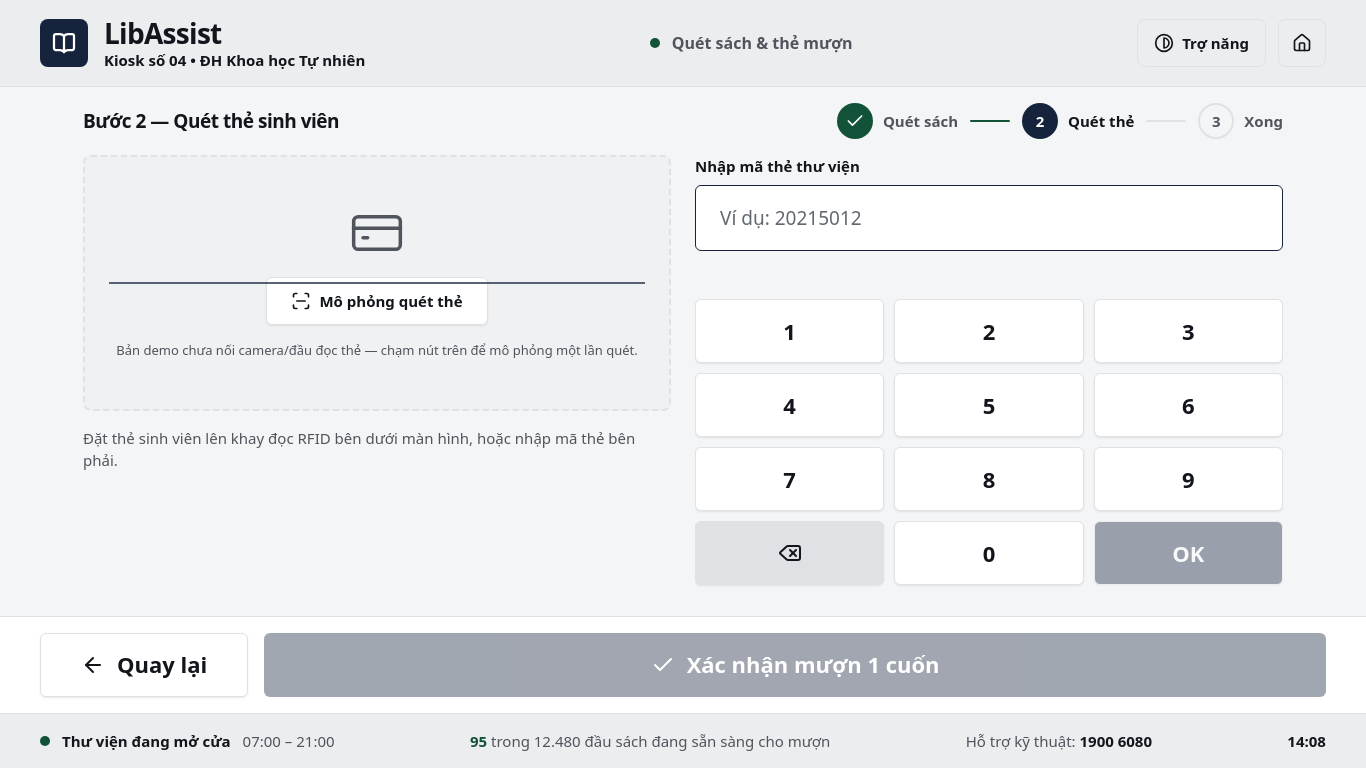
Step 2 — the card check › refuses a card with overdue books and names them
Type "20218888" into the field labelled "Nhập mã thẻ thư viện" at [989, 218], box [720, 186, 1258, 250]
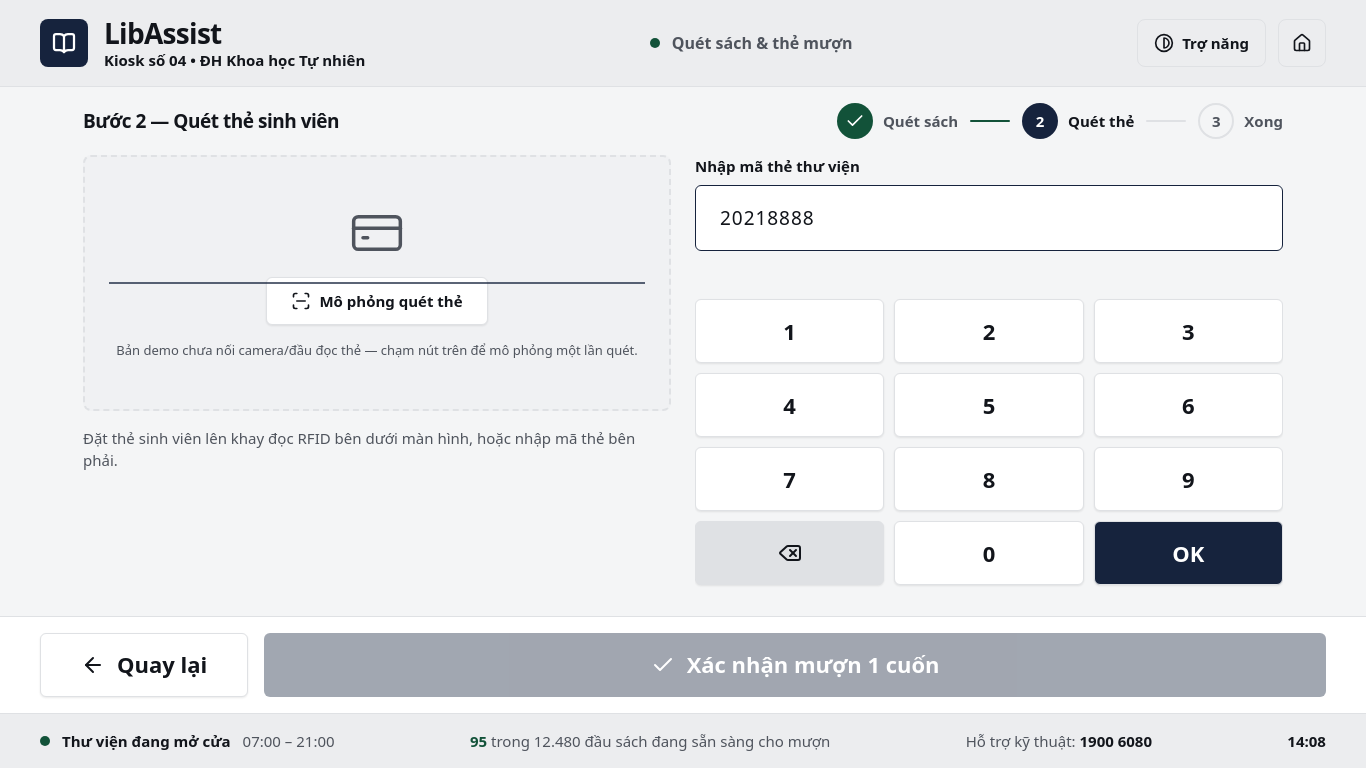
Click the button "OK" at [1188, 553], box [1094, 521, 1283, 585]
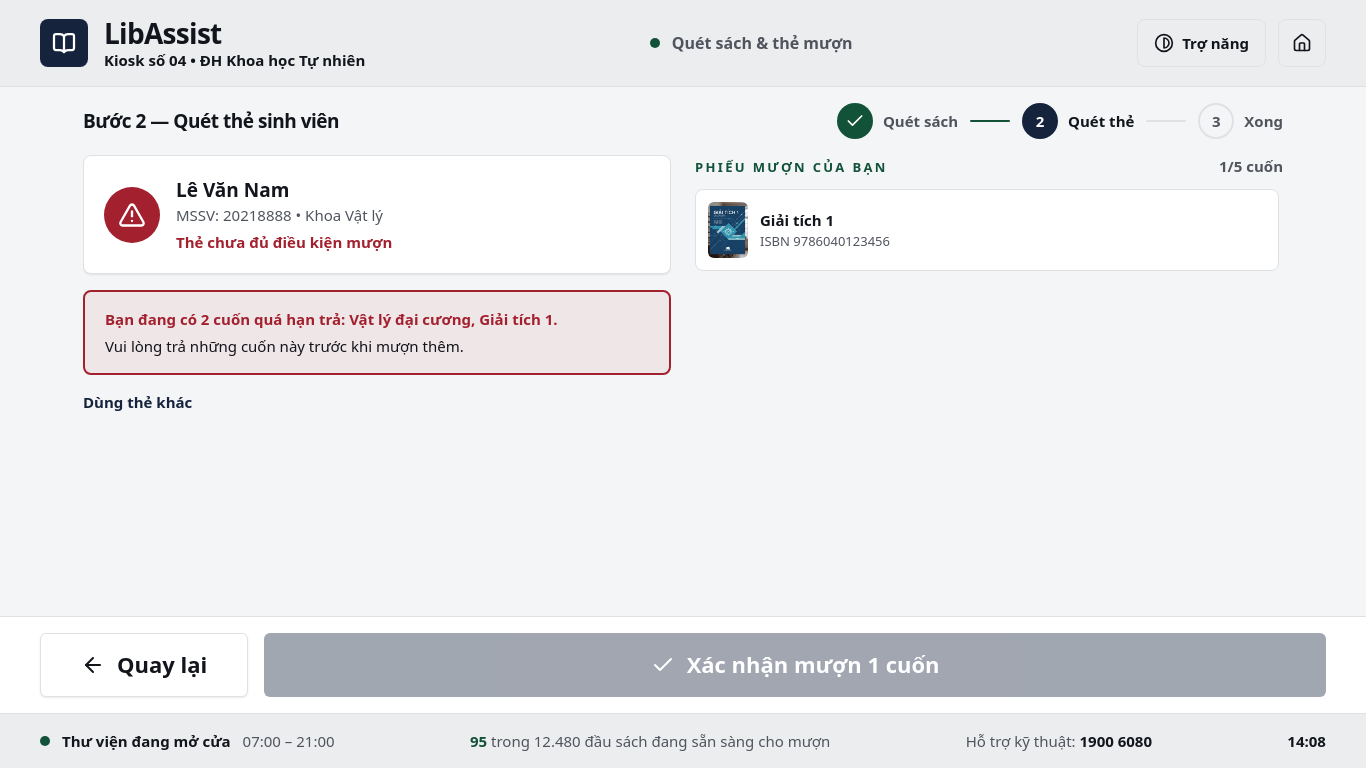
Expected: the button "Xác nhận mượn 1 cuốn" is disabled, [264, 632, 1326, 696]
Result: the text "quá hạn trả" is shown at [105, 309, 558, 329]
